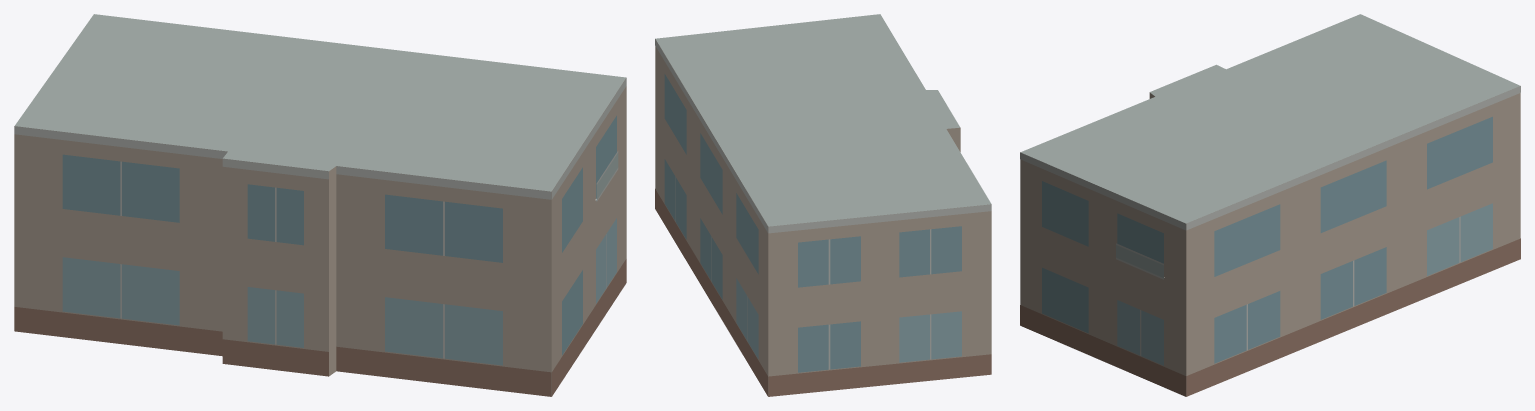
Rendered from survey-upis-32619267.glb.
3 renders of one model, left to right at view 1: azimuth 30°, elevation 25°; view 2: azimuth 150°, elevation 25°; view 3: azimuth 270°, elevation 25°, orthographic. The views are drawn at different scales.
Parts seen in each view (by area): view 1: survey-upis-32619267.tmp; view 2: survey-upis-32619267.tmp; view 3: survey-upis-32619267.tmp.
Boxes of the visible parts, <box> form: survey-upis-32619267.tmp: <box>14,14,626,396</box>; survey-upis-32619267.tmp: <box>655,14,991,396</box>; survey-upis-32619267.tmp: <box>1020,14,1520,396</box>.
Size of the model in its own units: 15.84 by 6.1 by 15.98.
